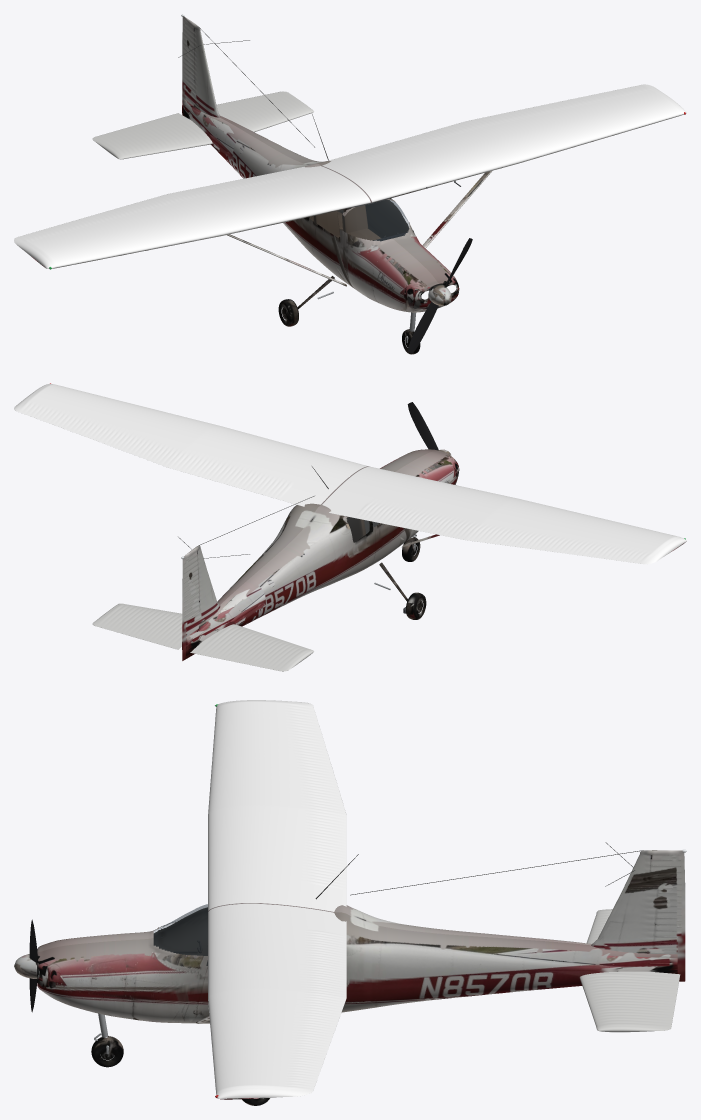
The picture shows the model from 3 angles, top to bottom: view 1: azimuth 30°, elevation 25°; view 2: azimuth 150°, elevation 25°; view 3: azimuth 270°, elevation 25°; orthographic projection. The views are drawn at different scales.
Visible parts, largest first — view 1: wing_L, wing_R, fuselage, stab_R, fuselage_glass, stab_L, fin, cabin_shell, seat0_back, prop_blade1; view 2: wing_L, wing_R, fuselage, stab_R, stab_L, fin, prop_blade0; view 3: fuselage, wing_R, wing_L, fin, stab_L, fuselage_glass, cabin_shell, nose_wheel_tire.
Boxes of the visible parts, x1,y1,x2,y2 form: wing_L: (322, 84, 686, 203); wing_R: (14, 166, 371, 268); fuselage: (182, 99, 459, 312); stab_R: (92, 113, 212, 159); fuselage_glass: (310, 198, 409, 240); stab_L: (216, 91, 313, 132); fin: (182, 16, 220, 117); cabin_shell: (365, 199, 409, 238); seat0_back: (341, 205, 368, 232); prop_blade1: (407, 302, 438, 353); wing_L: (14, 384, 369, 506); wing_R: (321, 466, 686, 564); fuselage: (182, 449, 459, 655); stab_R: (190, 624, 313, 671); stab_L: (92, 603, 182, 649); fin: (182, 545, 220, 660); prop_blade0: (407, 402, 438, 450); fuselage: (37, 905, 677, 1023); wing_R: (208, 700, 346, 912); wing_L: (208, 903, 346, 1099); fin: (591, 850, 685, 981); stab_L: (579, 971, 680, 1032); fuselage_glass: (154, 904, 207, 965); cabin_shell: (153, 907, 207, 965); nose_wheel_tire: (91, 1036, 123, 1067).
Bounding box in the file's own units: 10.97 × 2.81 × 7.91.
Materials: 18 (2 with a texture image).
